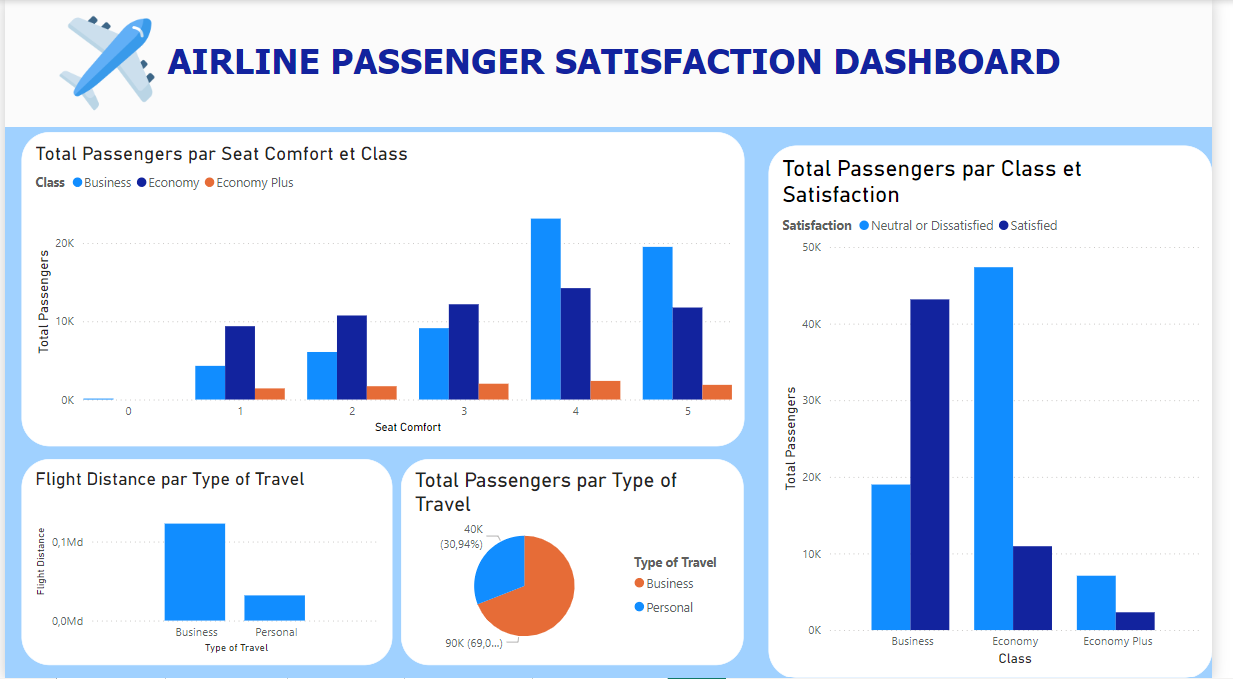

Layout of this report page (visuals, bound fields, positions):
{"tool":"powerbi","page":{"name":"Details","canvas":[1280,720],"ordinal":2},"visuals":[{"type":"textbox","box":[0,0,1280,134.6],"z":0,"group":"g1"},{"type":"lineClusteredColumnComboChart","fields":{"Category":["airline_passenger_satisfaction.Class"],"Y":["airline_passenger_satisfaction.Total Passengers"],"Series":["airline_passenger_satisfaction.Satisfaction"]},"box":[809,154.7,471,565.2],"z":0},{"type":"pieChart","fields":{"Category":["airline_passenger_satisfaction.Type of Travel"],"Y":["airline_passenger_satisfaction.Total Passengers"]},"box":[420.5,486.1,363.3,218.7],"z":1000},{"type":"columnChart","fields":{"Y":["Sum(airline_passenger_satisfaction.Flight Distance)"],"Category":["airline_passenger_satisfaction.Type of Travel"]},"box":[16.8,486.1,393.6,218.7],"z":3000},{"type":"group","id":"g1","title":"Groupe 1","box":[0,0,1280,134.6],"z":4000},{"type":"image","box":[52.1,0,111,134.6],"z":5000},{"type":"clusteredColumnChart","fields":{"Y":["airline_passenger_satisfaction.Total Passengers"],"Category":["airline_passenger_satisfaction.Seat Comfort"],"Series":["airline_passenger_satisfaction.Class"]},"box":[16.8,139.6,767,333],"z":6001}]}

Visuals, with their boxes in screenshot pixels (x1, y1, x2, y2), scaled from the page's 1280x720 canvas onto the 1233x679 screenshot:
textbox: 0, 0, 1232, 127
lineClusteredColumnComboChart - airline_passenger_satisfaction.Class x airline_passenger_satisfaction.Total Passengers: 779, 146, 1232, 678
pieChart - airline_passenger_satisfaction.Type of Travel x airline_passenger_satisfaction.Total Passengers: 405, 458, 755, 665
columnChart - Sum(airline_passenger_satisfaction.Flight Distance) x airline_passenger_satisfaction.Type of Travel: 16, 458, 395, 665
"Groupe 1" group: 0, 0, 1232, 127
image: 50, 0, 157, 127
clusteredColumnChart - airline_passenger_satisfaction.Total Passengers x airline_passenger_satisfaction.Seat Comfort: 16, 132, 755, 446
